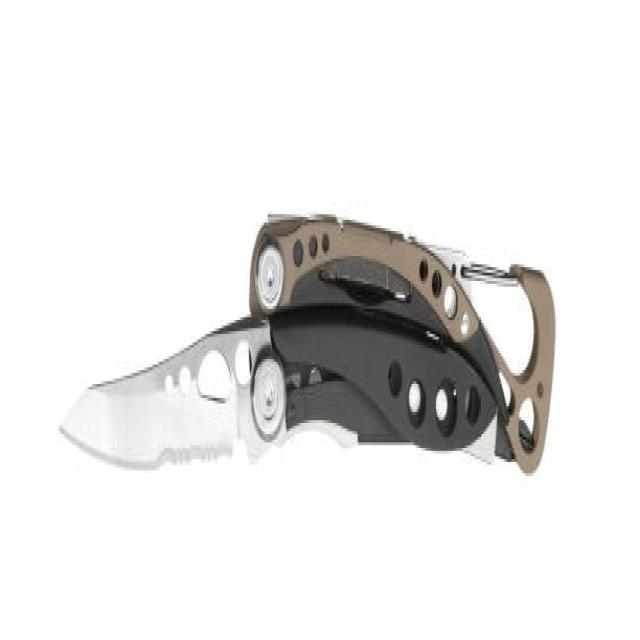knife: (49, 185, 557, 514)
